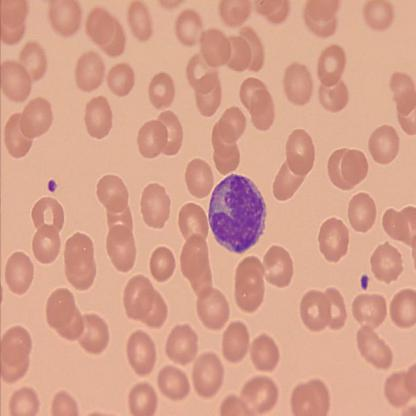Monocyte: (206, 171, 270, 254)
